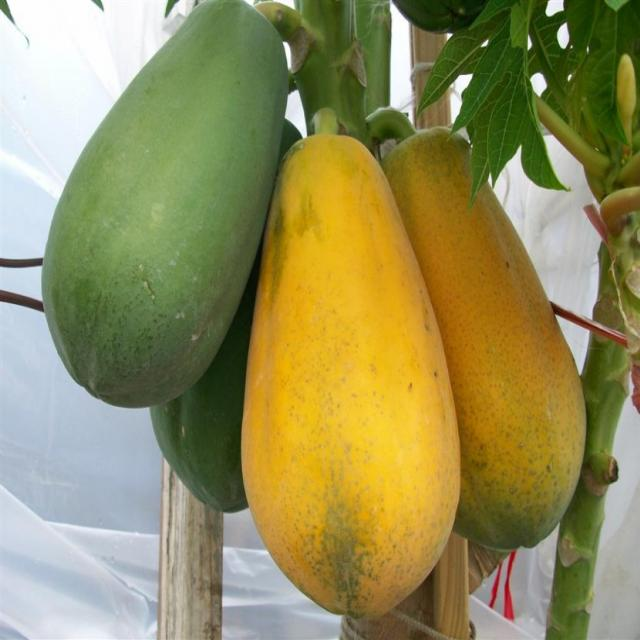Pepaya rippen: (236, 135, 461, 597), (400, 100, 595, 548)
Pepaya unrippen: (45, 5, 282, 398)
